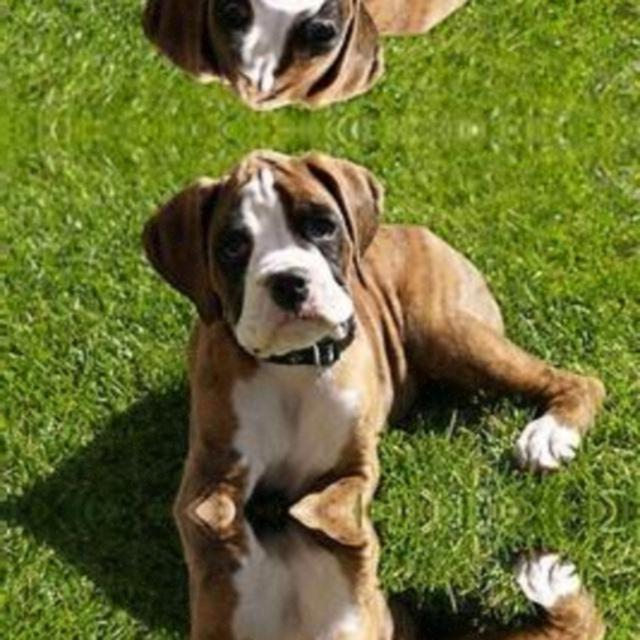dog: (126, 140, 594, 510), (126, 510, 594, 640), (126, 0, 594, 118)
